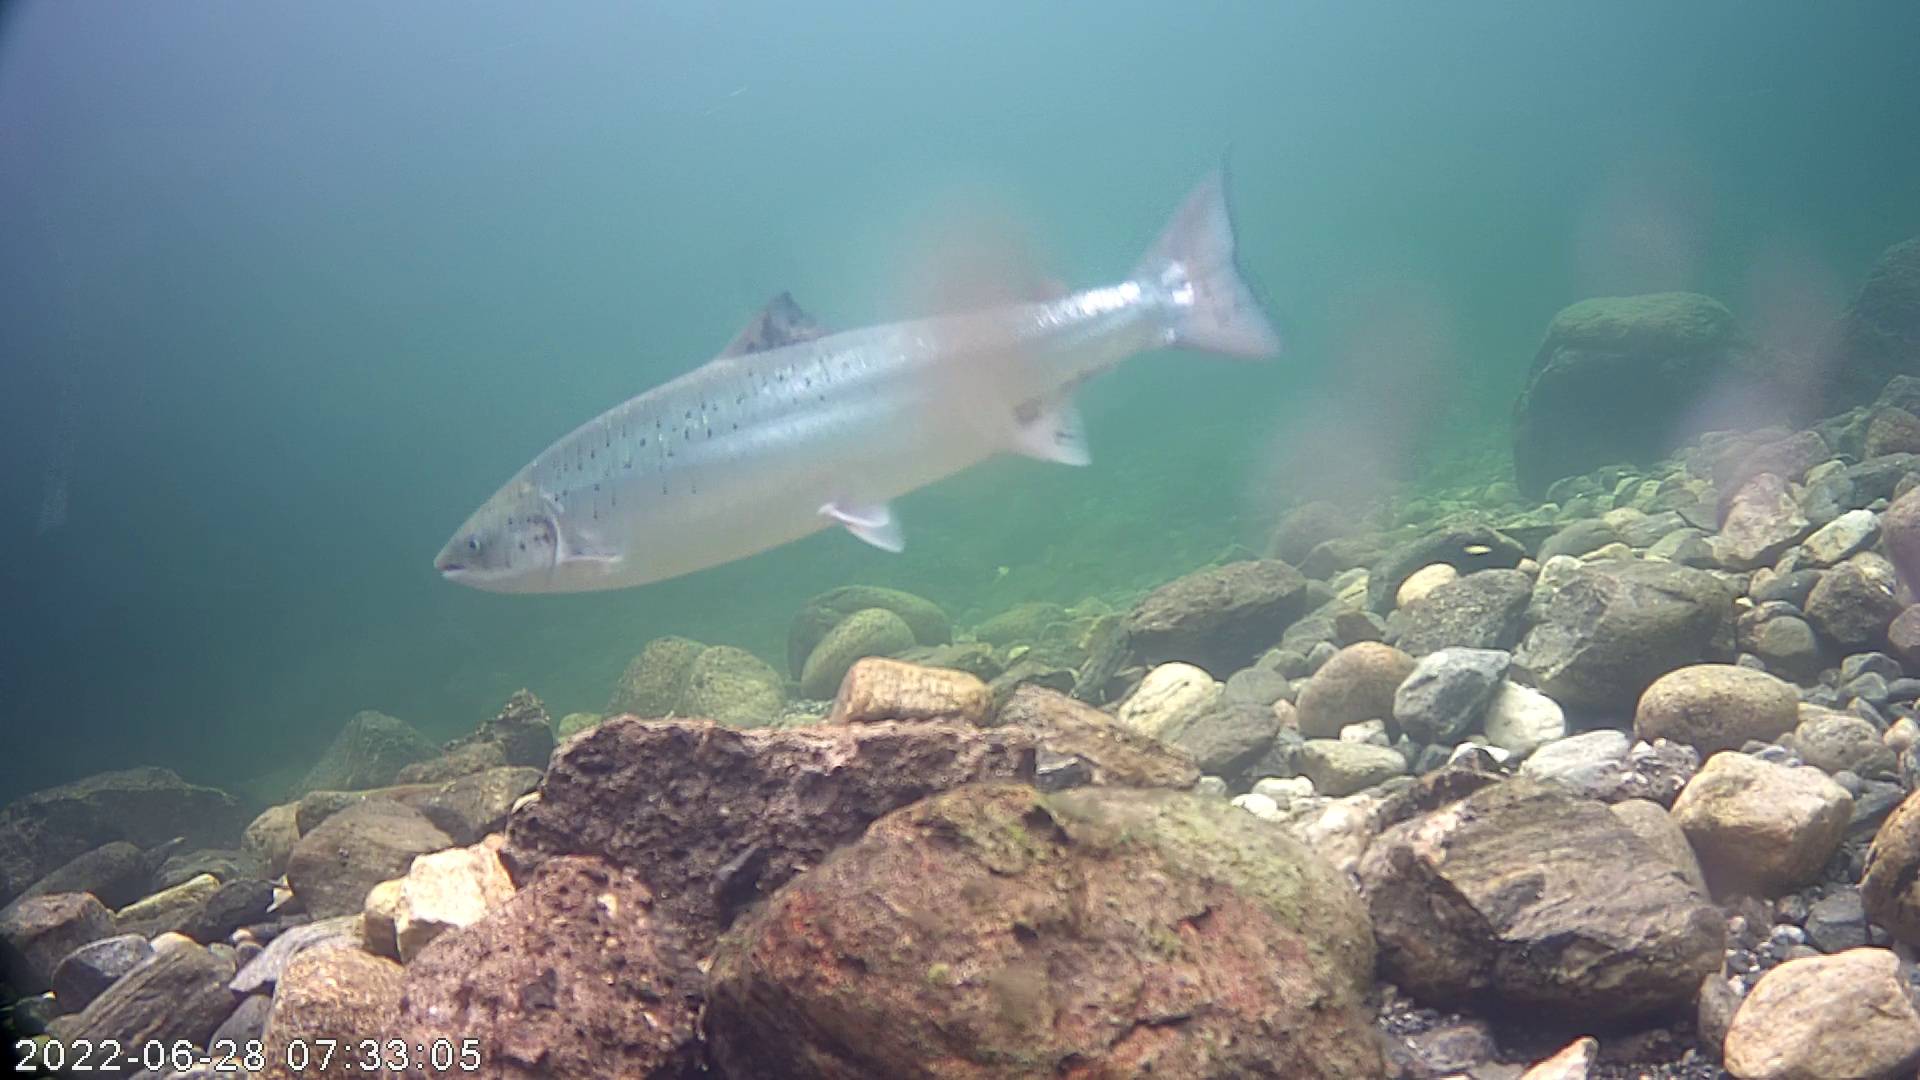salmon: (427, 127, 1300, 618)
